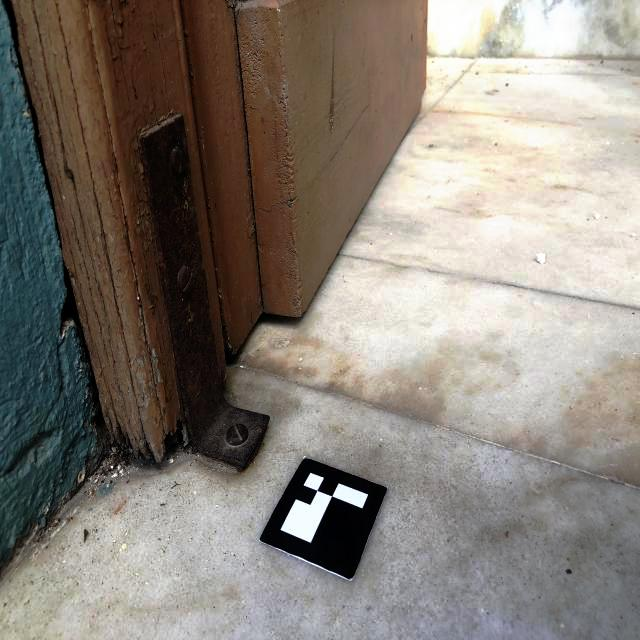Corrosion: (140, 114, 269, 472)
